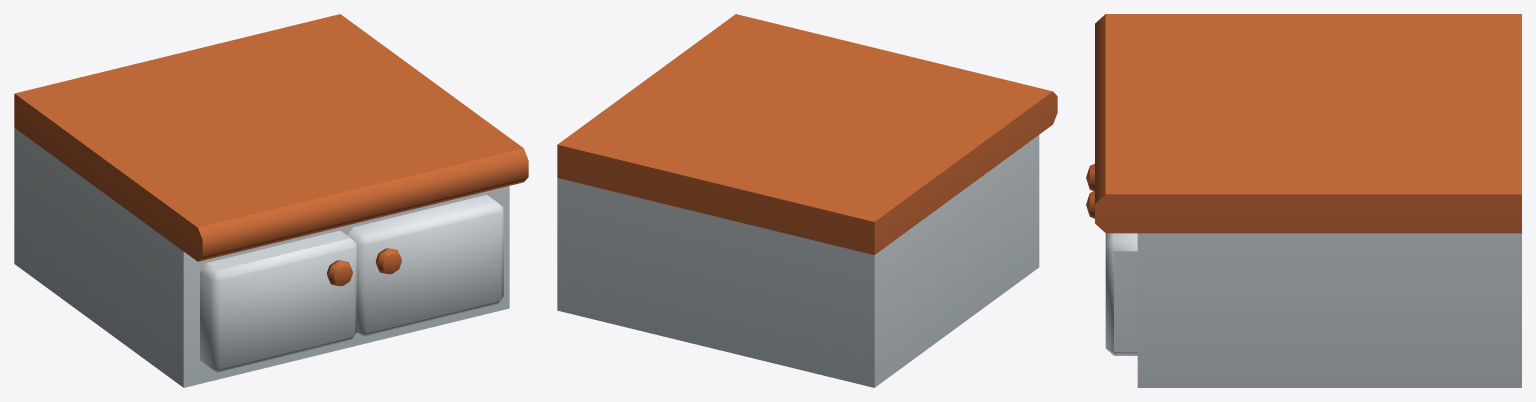
The model's file is kitchencounter_straight_B.obj.
3 renders of one model, left to right at view 1: azimuth 30°, elevation 25°; view 2: azimuth 150°, elevation 25°; view 3: azimuth 270°, elevation 25°, orthographic. The views are drawn at different scales.
Visible parts, largest first — view 1: kitchencounter_straight_B_Cube.897; view 2: kitchencounter_straight_B_Cube.897; view 3: kitchencounter_straight_B_Cube.897.
Part boxes in pixels (box(x1,y1,x2,y2)): kitchencounter_straight_B_Cube.897: box(14, 14, 528, 387); kitchencounter_straight_B_Cube.897: box(557, 14, 1057, 387); kitchencounter_straight_B_Cube.897: box(1086, 14, 1521, 387).
Size of the model in its own units: 2 by 1 by 2.04.
Materials: 1 (1 with a texture image).
